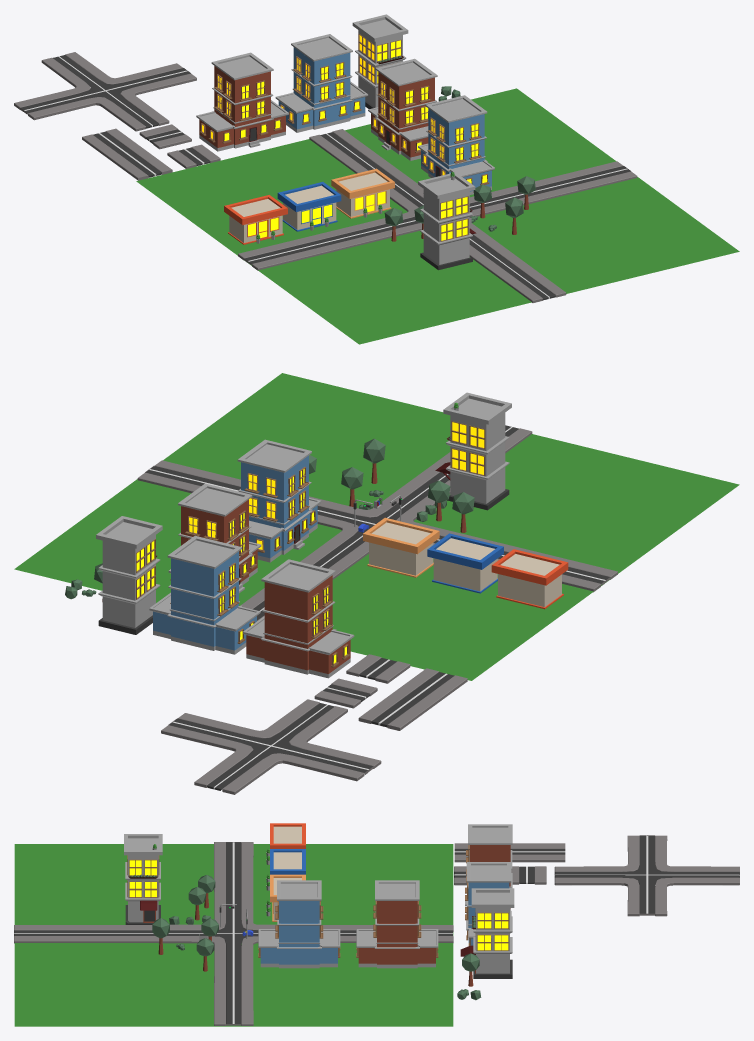
The picture shows the model from 3 angles, top to bottom: view 1: azimuth 30°, elevation 25°; view 2: azimuth 150°, elevation 25°; view 3: azimuth 270°, elevation 25°; orthographic projection. The views are drawn at different scales.
Visible parts, largest first — view 1: Plane, curb, home, Home1 blue.001, road, curb.001, Home1 blue, Home1 red, home 2, road.001, Cube.006, Cube.010 (+11 smaller); view 2: Plane, home, Home1 blue.001, curb, curb.001, Home1 blue, home 2.001, home 2, road.001, road, Home1 red, Cube.006 (+8 smaller); view 3: Plane, curb, Home1 red, Home1 blue, road, curb.001, home 2.001, road.001, home 2, home, Home1 blue.001, Cylinder.011 (+7 smaller).
Part boxes in pixels (x1=…): Plane: x1=136, y1=88, x2=739, y2=344; curb: x1=238, y1=129, x2=637, y2=302; home: x1=196, y1=52, x2=288, y2=151; Home1 blue.001: x1=275, y1=34, x2=368, y2=132; road: x1=245, y1=132, x2=630, y2=300; curb.001: x1=14, y1=52, x2=196, y2=131; Home1 blue: x1=418, y1=95, x2=494, y2=194; Home1 red: x1=368, y1=58, x2=437, y2=160; home 2: x1=418, y1=172, x2=475, y2=270; road.001: x1=21, y1=55, x2=190, y2=128; Cube.006: x1=224, y1=195, x2=287, y2=244; Cube.010: x1=277, y1=182, x2=341, y2=231; Plane: x1=14, y1=373, x2=739, y2=680; home: x1=243, y1=559, x2=354, y2=678; Home1 blue.001: x1=149, y1=535, x2=260, y2=654; curb: x1=137, y1=428, x2=617, y2=620; curb.001: x1=161, y1=699, x2=381, y2=794; Home1 blue: x1=237, y1=439, x2=321, y2=562; home 2.001: x1=96, y1=516, x2=162, y2=634; home 2: x1=443, y1=392, x2=511, y2=510; road.001: x1=169, y1=703, x2=372, y2=790; road: x1=145, y1=425, x2=609, y2=620; Home1 red: x1=168, y1=483, x2=261, y2=584; Cube.006: x1=491, y1=549, x2=568, y2=609; Plane: x1=14, y1=844, x2=453, y2=1026; curb: x1=14, y1=842, x2=453, y2=1025; Home1 red: x1=356, y1=880, x2=438, y2=968; Home1 blue: x1=258, y1=880, x2=340, y2=968; road: x1=14, y1=842, x2=452, y2=1023; curb.001: x1=554, y1=835, x2=739, y2=916; home 2.001: x1=471, y1=888, x2=514, y2=978; road.001: x1=554, y1=835, x2=739, y2=913; home 2: x1=124, y1=834, x2=162, y2=924; home: x1=465, y1=824, x2=512, y2=910; Home1 blue.001: x1=466, y1=862, x2=511, y2=945; Cylinder.011: x1=454, y1=843, x2=565, y2=862.
Size of the model in its own units: 120 by 24.01 by 195.
